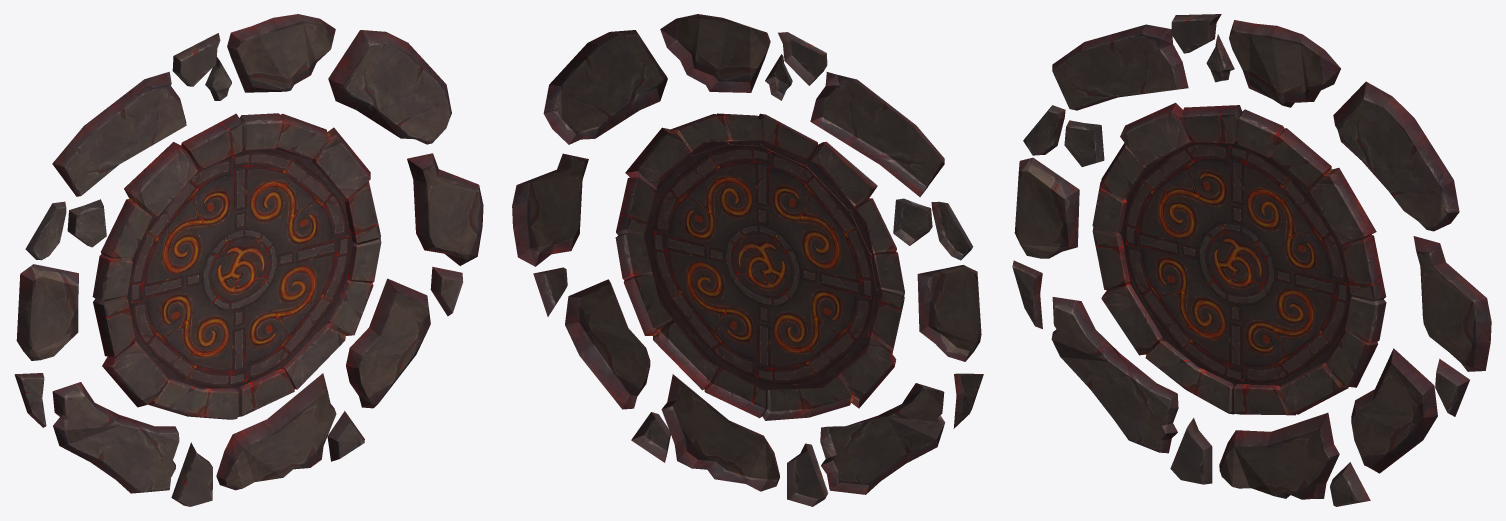
The model's file is huodong_fuben_653_yuanpan.obj.
3 renders of one model, left to right at view 1: azimuth 30°, elevation 25°; view 2: azimuth 150°, elevation 25°; view 3: azimuth 330°, elevation 25°, orthographic.
Visible parts, largest first — view 1: huodong_fuben_653_yuanpan; view 2: huodong_fuben_653_yuanpan; view 3: huodong_fuben_653_yuanpan.
Part boxes in pixels (x1,y1,x2,y2): huodong_fuben_653_yuanpan: (14, 14, 483, 506); huodong_fuben_653_yuanpan: (512, 14, 983, 506); huodong_fuben_653_yuanpan: (1012, 14, 1491, 506).
Size of the model in its own units: 882 by 838 by 27.7.
1 material, 1 textured.
